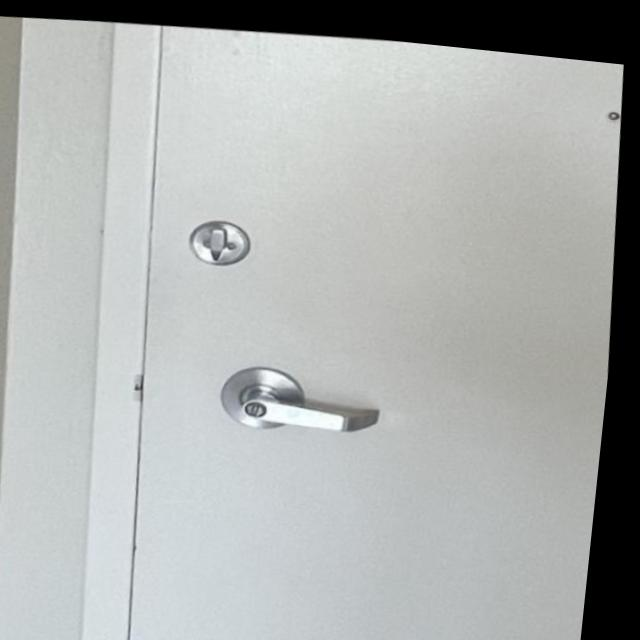door_handle: (203, 356, 416, 452)
